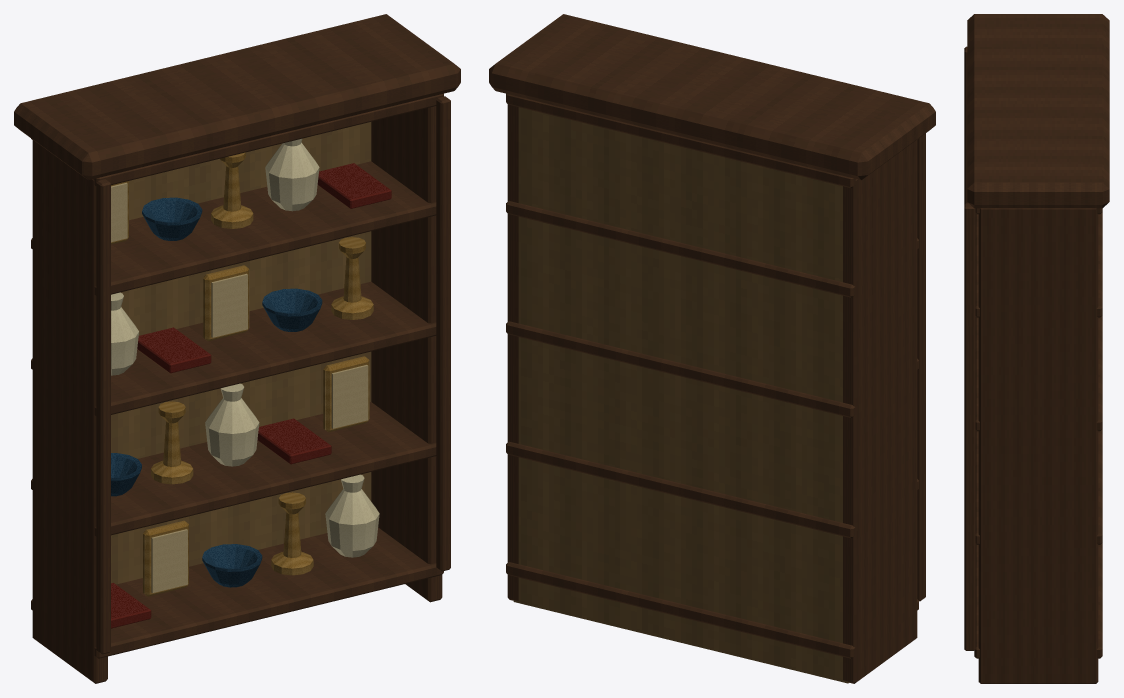
Rendered from level_lived_curio.glb.
3 views of the same model, side by side, from view 1: azimuth 30°, elevation 25°; view 2: azimuth 150°, elevation 25°; view 3: azimuth 270°, elevation 25° (orthographic). The views are drawn at different scales.
Parts seen in each view (by area): view 1: level_lived_curio; view 2: level_lived_curio; view 3: level_lived_curio.
Part boxes in pixels (x1=…): level_lived_curio: x1=14, y1=14, x2=460, y2=683; level_lived_curio: x1=489, y1=14, x2=935, y2=683; level_lived_curio: x1=964, y1=14, x2=1109, y2=683.
Size of the model in its own units: 1.45 by 1.96 by 0.51.
7 materials, 7 textured.
